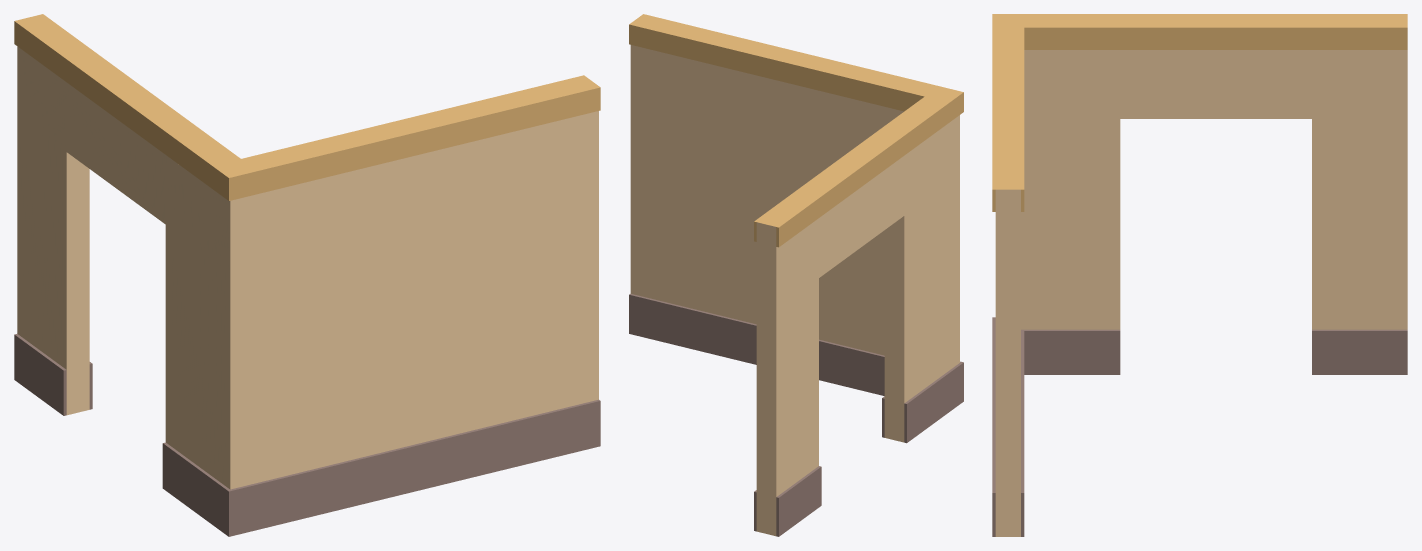
Rendered from Wall01-03.fbx.
3 views of the same model, side by side, from view 1: azimuth 30°, elevation 25°; view 2: azimuth 150°, elevation 25°; view 3: azimuth 270°, elevation 25° (orthographic). The views are drawn at different scales.
Visible parts, largest first — view 1: Wall01-03; view 2: Wall01-03; view 3: Wall01-03.
Boxes of the visible parts, x1,y1,x2,y2 form: Wall01-03: (14,14,600,536); Wall01-03: (629,14,963,536); Wall01-03: (992,14,1407,536).
Bounding box in the file's own units: 3.25 × 3.25 × 3.
